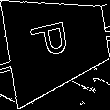P_E: (34, 21, 80, 66)
